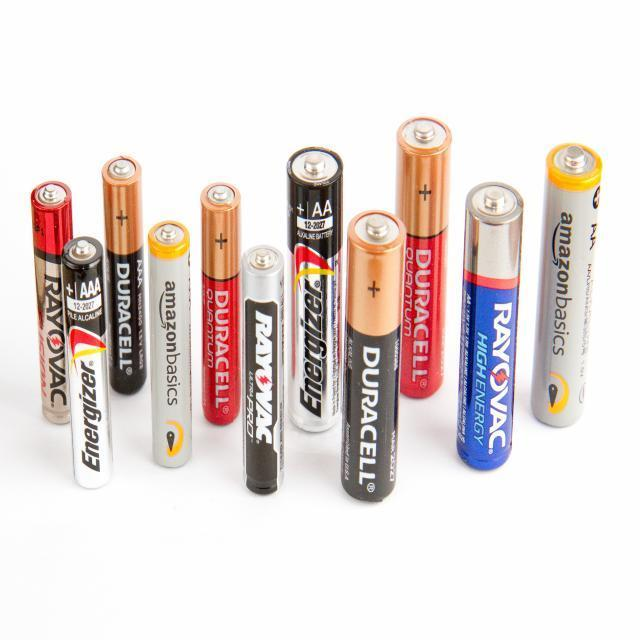AA: (531, 144, 603, 432), (459, 181, 522, 464), (343, 215, 402, 498), (288, 150, 342, 436), (398, 119, 452, 394)
AAA: (64, 237, 110, 485), (102, 158, 146, 392), (242, 248, 284, 492), (150, 223, 190, 470), (202, 186, 241, 421), (34, 182, 72, 418)
